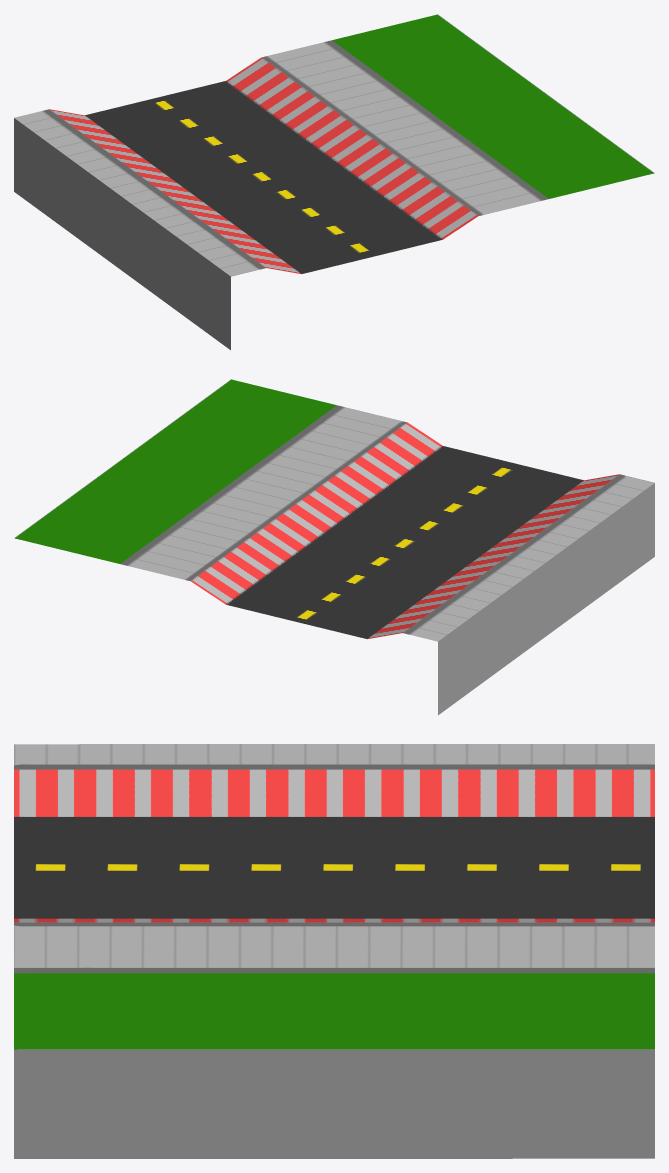
Rendered from road.glb.
3 renders of one model, top to bottom at view 1: azimuth 30°, elevation 25°; view 2: azimuth 150°, elevation 25°; view 3: azimuth 270°, elevation 25°, orthographic. The views are drawn at different scales.
Parts seen in each view (by area): view 1: Plane; view 2: Plane; view 3: Plane.
Boxes of the visible parts, <box> form: Plane: <box>14,14,654,350</box>; Plane: <box>14,379,654,715</box>; Plane: <box>14,744,654,1158</box>.
Size of the model in its own units: 12 by 2 by 10.64.
1 material, 1 textured.
